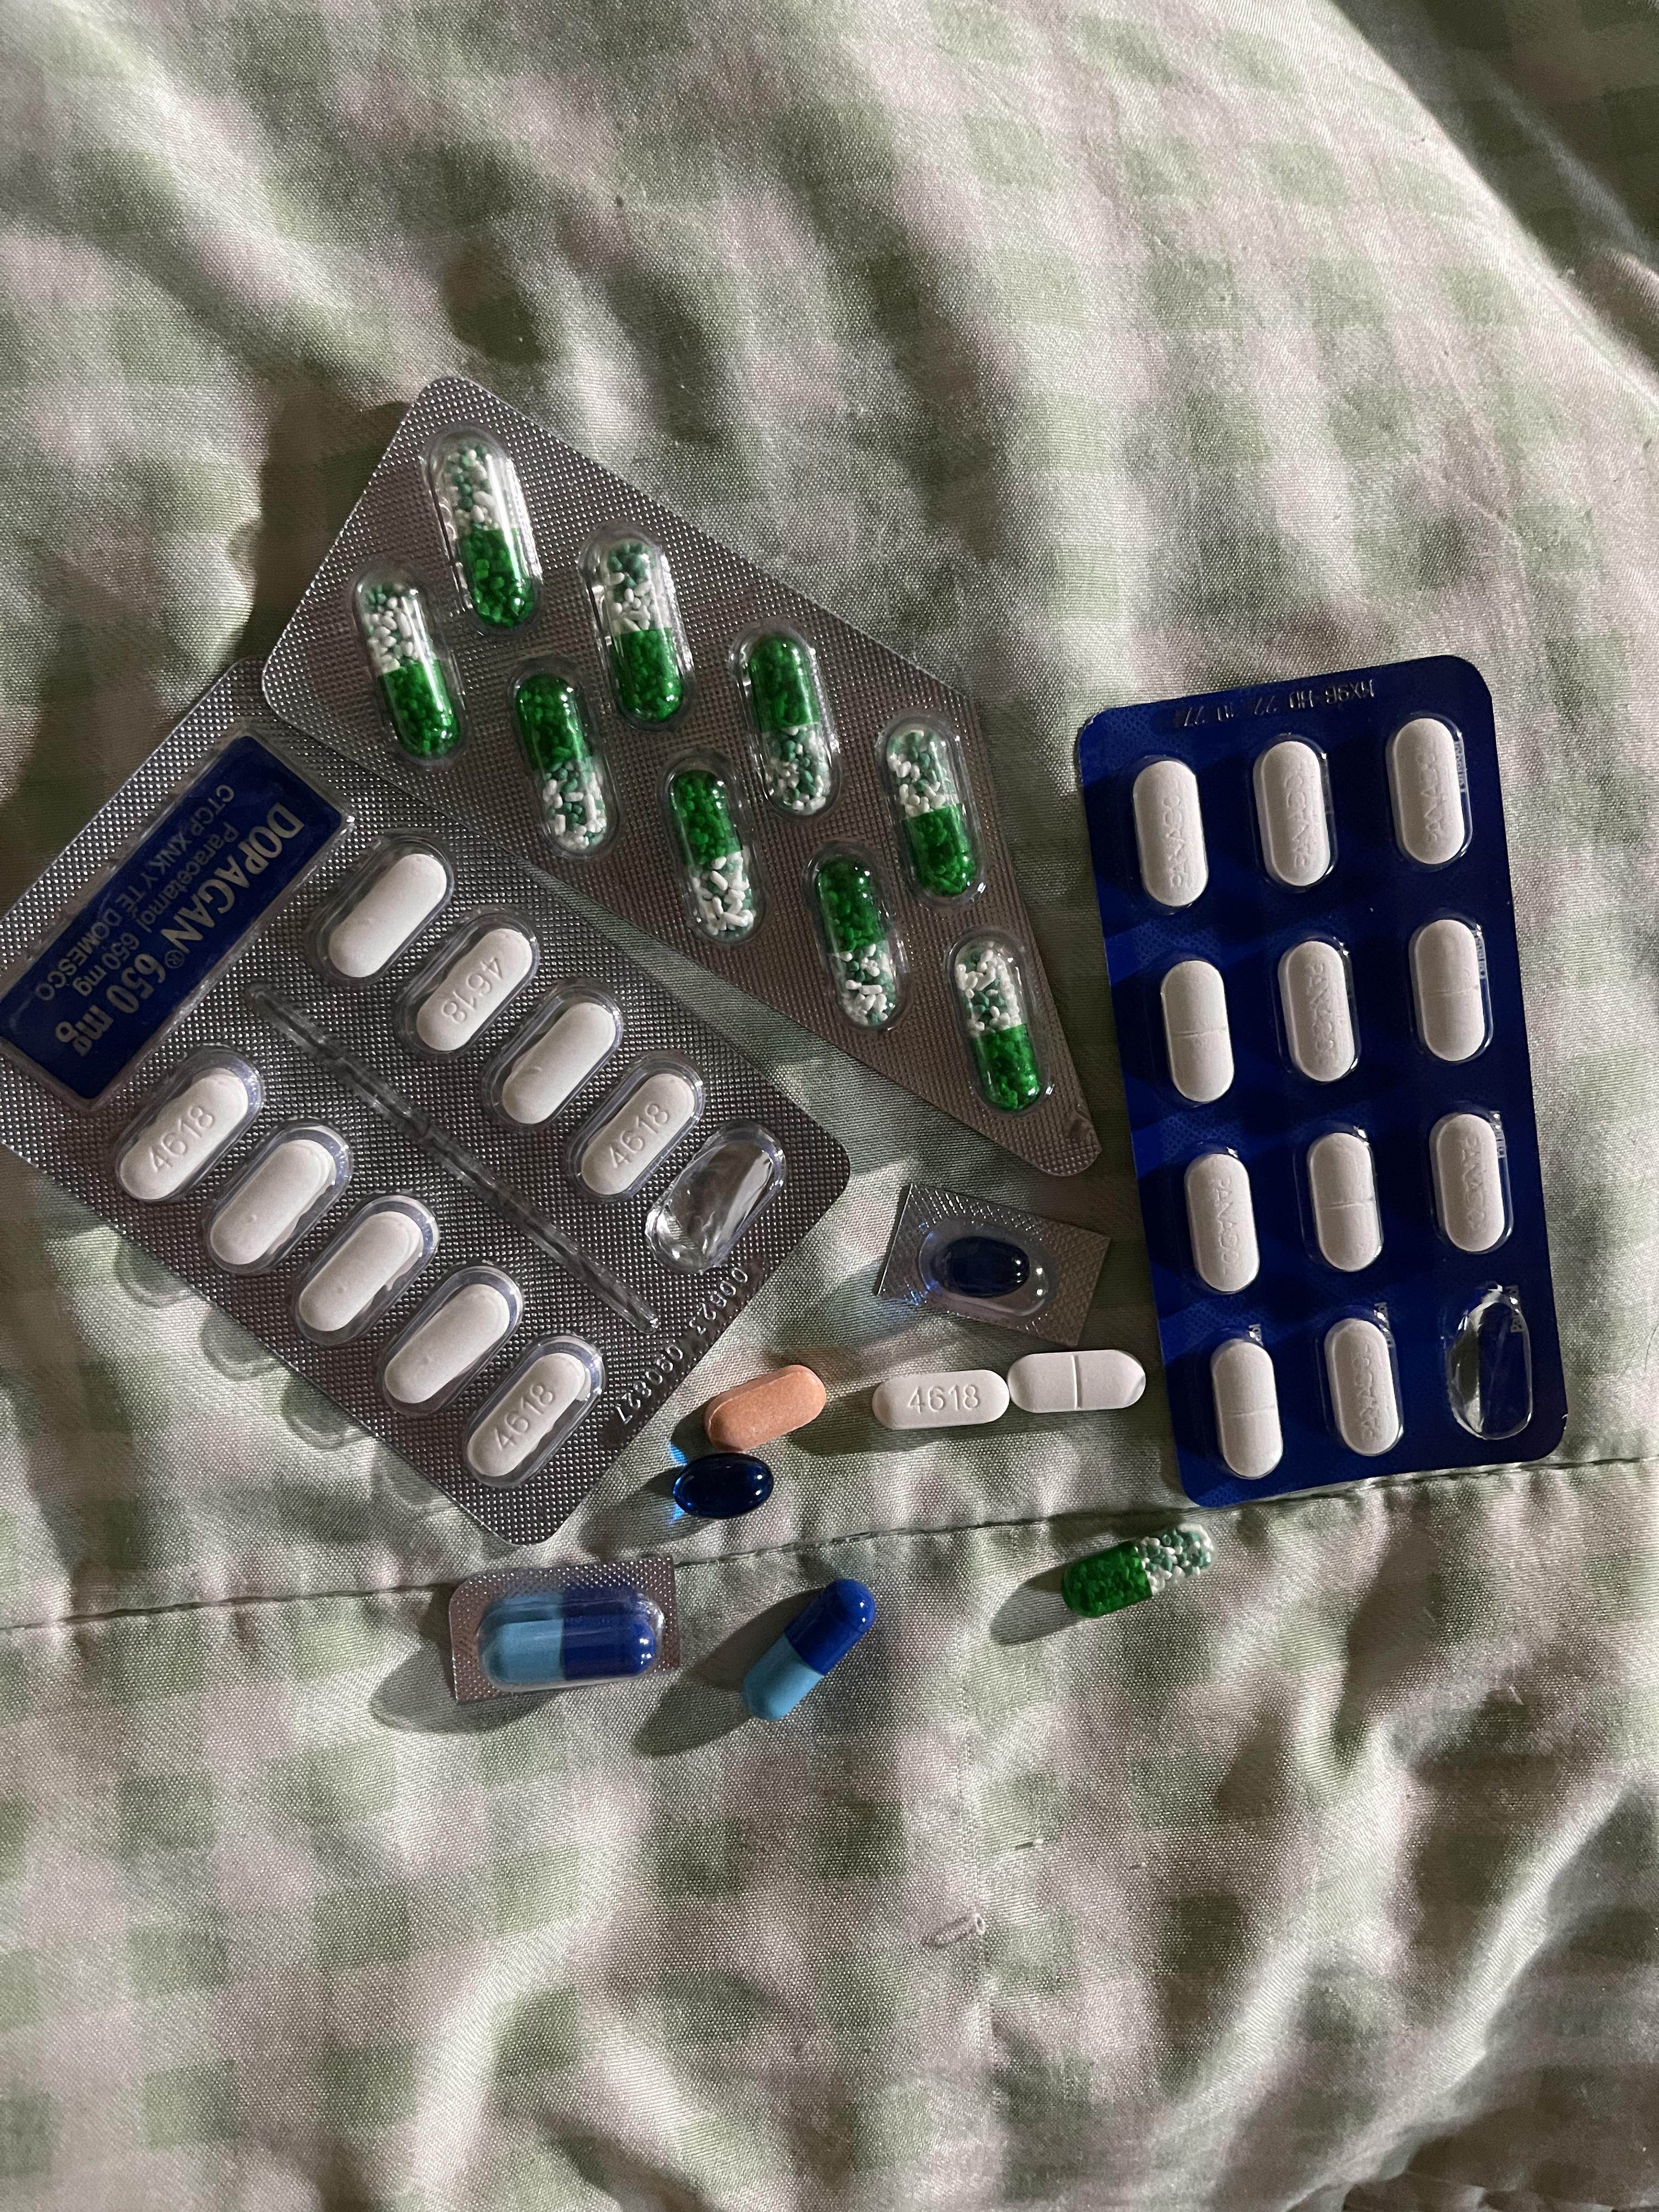Lincomyxin_500mg: (669, 1454, 777, 1519), (936, 1235, 1032, 1299)
Loratadine_10mg: (704, 1366, 819, 1453)
Paracetamol_350mg: (1387, 718, 1473, 871), (1255, 738, 1337, 892), (1279, 941, 1361, 1085), (1133, 759, 1208, 913), (1307, 1130, 1387, 1273), (1412, 920, 1490, 1064), (1324, 1318, 1405, 1460), (1431, 1113, 1509, 1256), (1161, 961, 1234, 1109), (1185, 1151, 1258, 1296), (1211, 1338, 1283, 1480), (1009, 1348, 1140, 1413)
Paracetamol_500mg: (373, 1264, 525, 1420), (481, 979, 626, 1130), (566, 1050, 709, 1204), (296, 1204, 432, 1339), (211, 1132, 342, 1268), (120, 1069, 251, 1204), (471, 1352, 594, 1482), (326, 852, 451, 977), (416, 930, 526, 1052), (877, 1366, 1007, 1428)
Paracetamol_650mg: (434, 441, 533, 627), (361, 583, 455, 758), (512, 676, 605, 845), (667, 777, 756, 949), (598, 547, 683, 721), (889, 728, 974, 899), (953, 941, 1037, 1111), (749, 643, 830, 808), (819, 862, 897, 1022), (1066, 1521, 1195, 1613)
pill: (483, 1581, 666, 1689), (744, 1573, 870, 1723)
